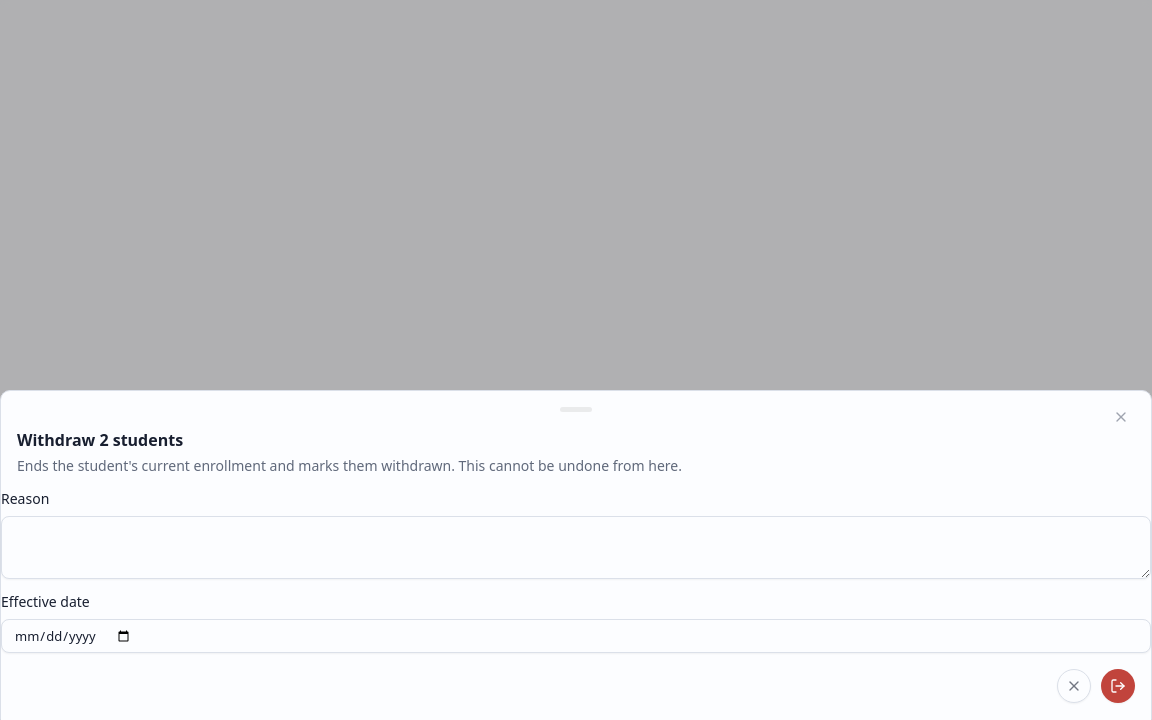
Test case: WithdrawStudentDialog — mobile drawer › names the Confirm button by what it's about to do, including while the withdrawal is in flight
The width and height of the screenshot is (1152, 720).
Expected: the dialog is shown, 0,390 -> 1151,719
In the text box labelled "Reason": (576, 547) 1,516 -> 1151,579, type "Moved to another city"
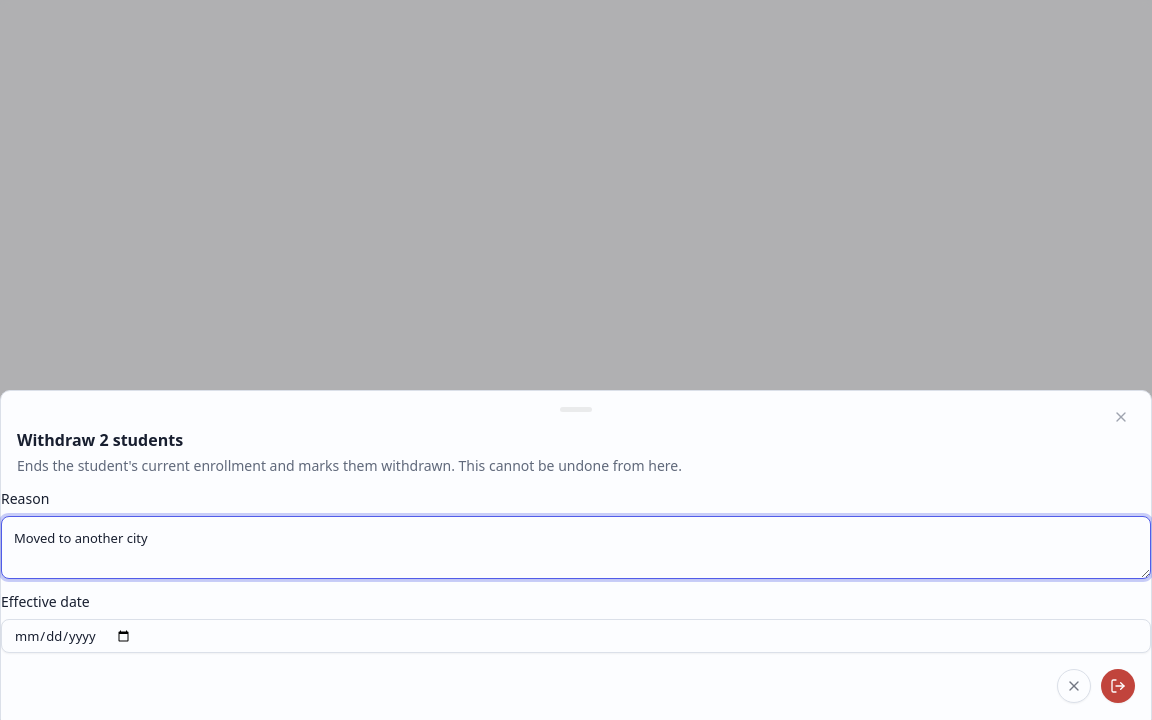
In the date field labelled "Effective date": (576, 636) 1,619 -> 1151,653, type "2026-09-15"
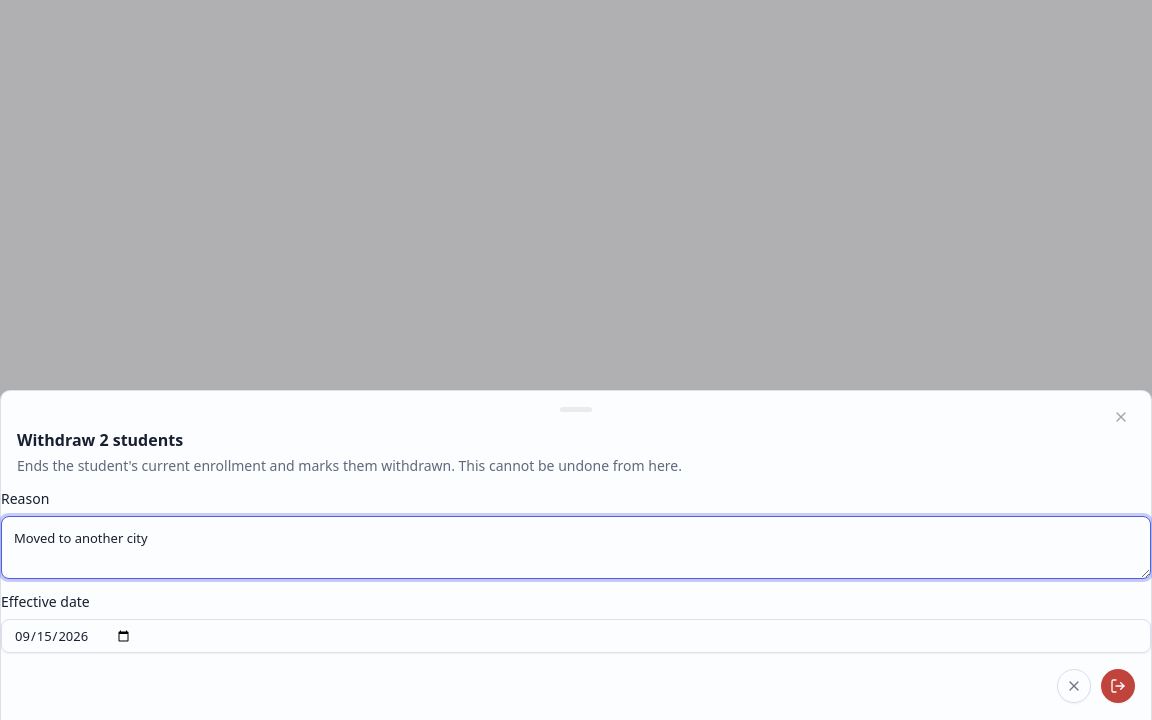
Click the button named "withdraw 2": (1118, 686) 1101,669 -> 1135,703
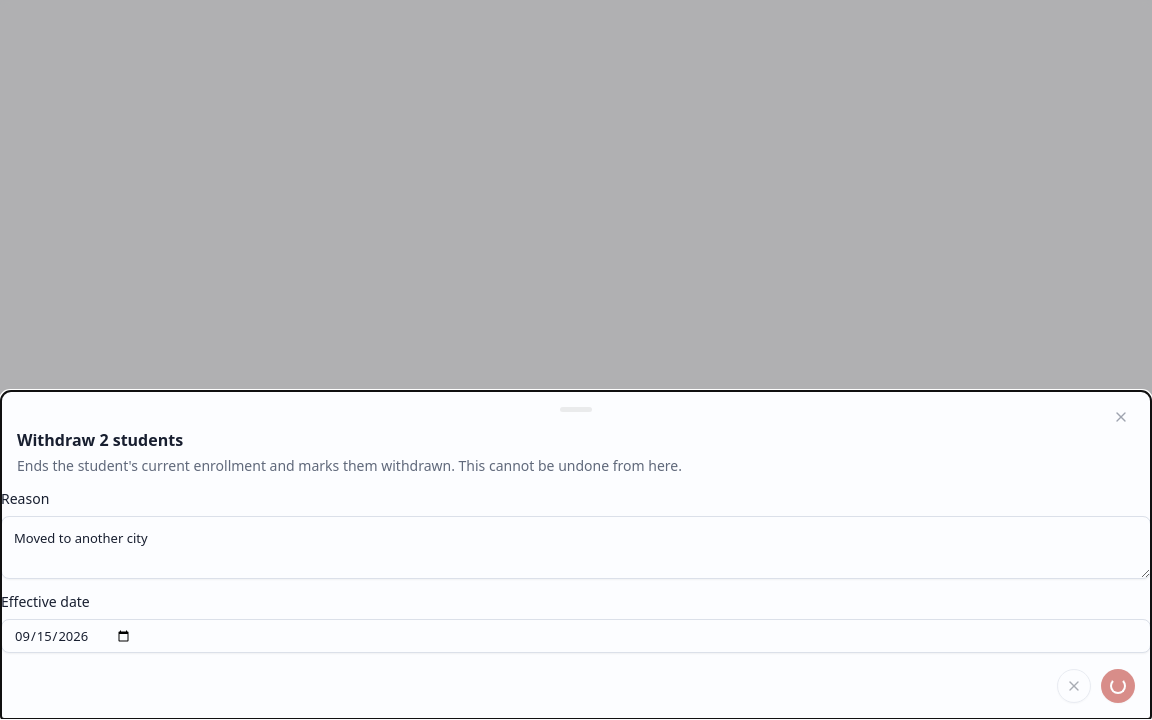
Expected: the button named "withdrawing" is disabled, 1101,669 -> 1135,703
